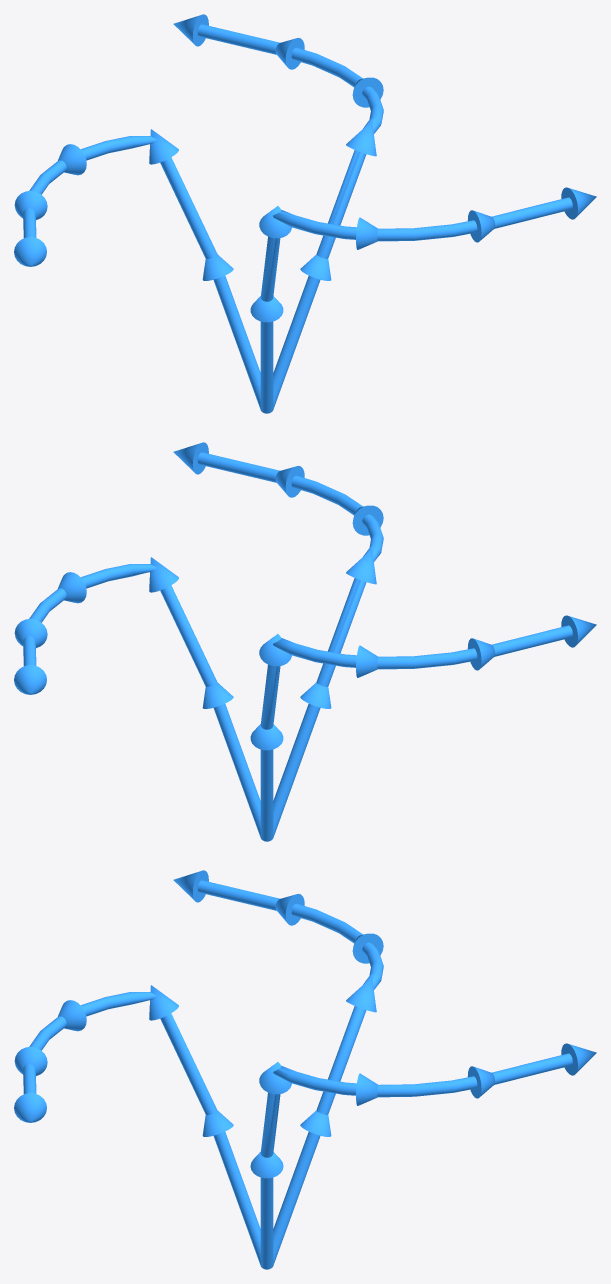
The model's file is impeller_flow.glb.
3 views of the same model, one above another, from view 1: azimuth 30°, elevation 25°; view 2: azimuth 150°, elevation 25°; view 3: azimuth 270°, elevation 25° (orthographic).
Visible parts, largest first — view 1: stream_3, stream_1, stream_2; view 2: stream_2, stream_3, stream_1; view 3: stream_1, stream_2, stream_3.
Part boxes in pixels (x1,y1,x2,y2): stream_3: (250,187,596,413); stream_1: (173,14,383,411); stream_2: (14,129,261,411); stream_2: (250,615,596,841); stream_3: (173,442,383,839); stream_1: (14,557,261,839); stream_1: (250,1043,596,1269); stream_2: (173,870,383,1267); stream_3: (14,985,261,1266).
Size of the model in its own units: 0.4488 by 0.2289 by 0.4578.
